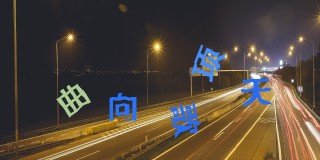向: (108, 91, 137, 122)
天: (240, 78, 273, 105)
曲: (54, 84, 91, 118)
歌: (170, 101, 200, 137)
项: (191, 44, 226, 82)
